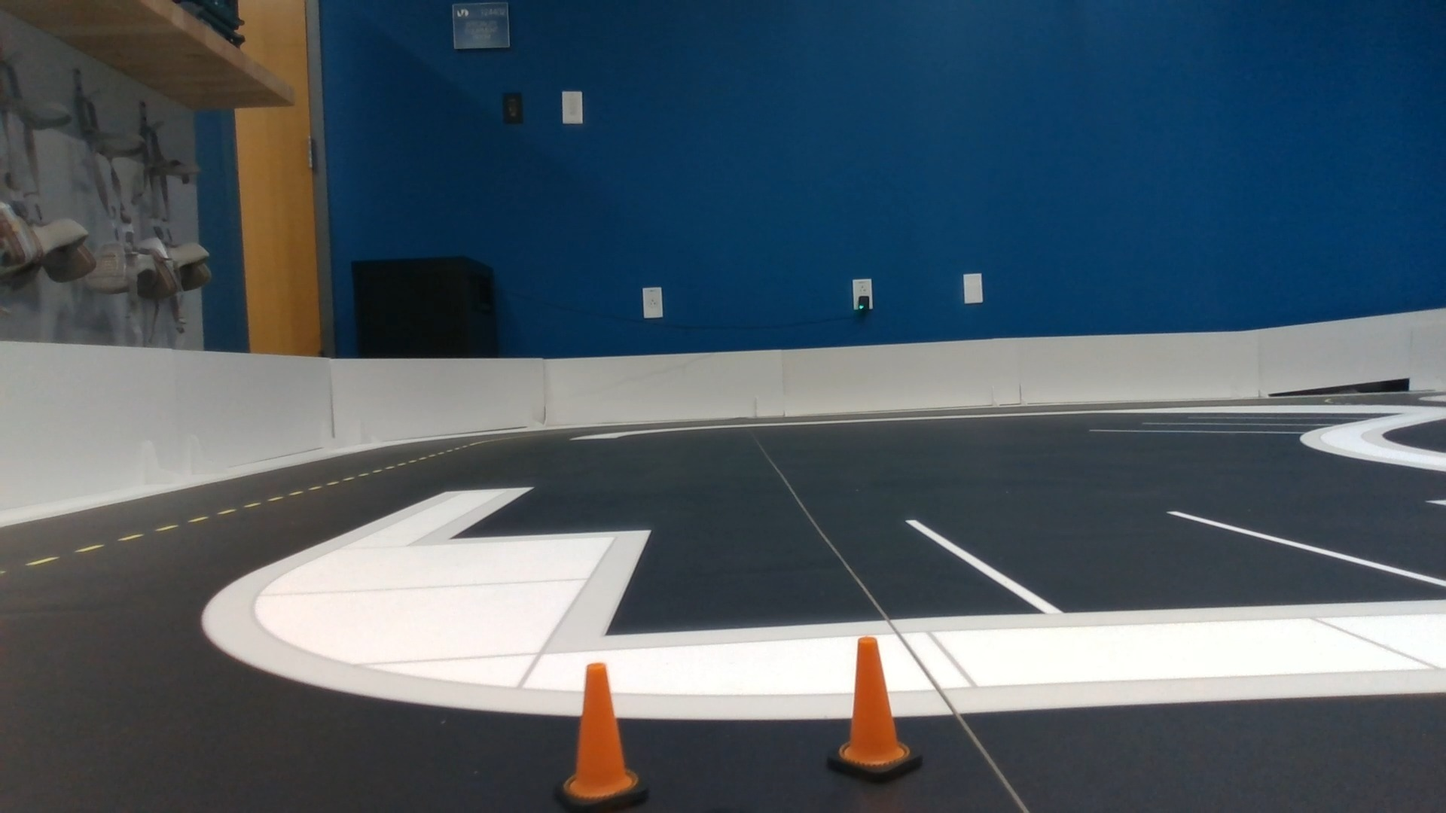Traffic Cone: (556, 663, 647, 812), (828, 637, 921, 781)
